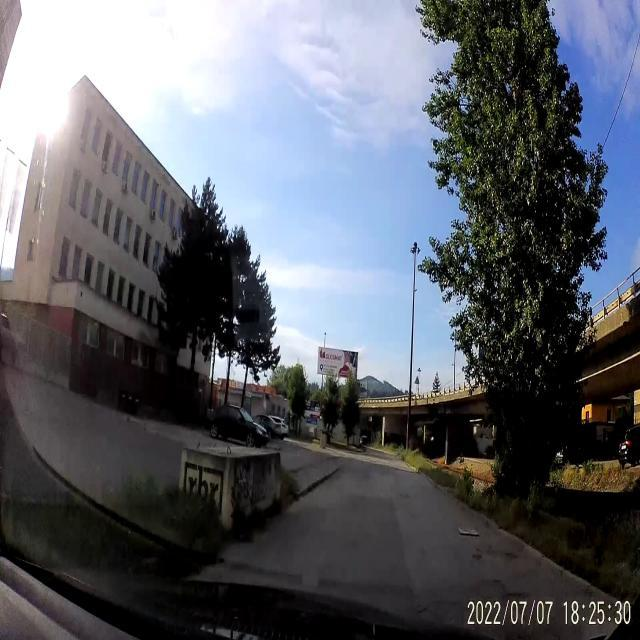Pothole: (472, 543, 522, 573)
